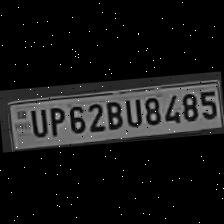2: (84, 100, 105, 134)
4: (159, 90, 181, 126)
5: (196, 86, 218, 121)
6: (64, 101, 86, 135)
8: (140, 92, 162, 126), (176, 88, 198, 122)
B: (102, 97, 124, 131)
P: (45, 104, 66, 138)
U: (25, 104, 48, 138), (121, 94, 143, 128)
